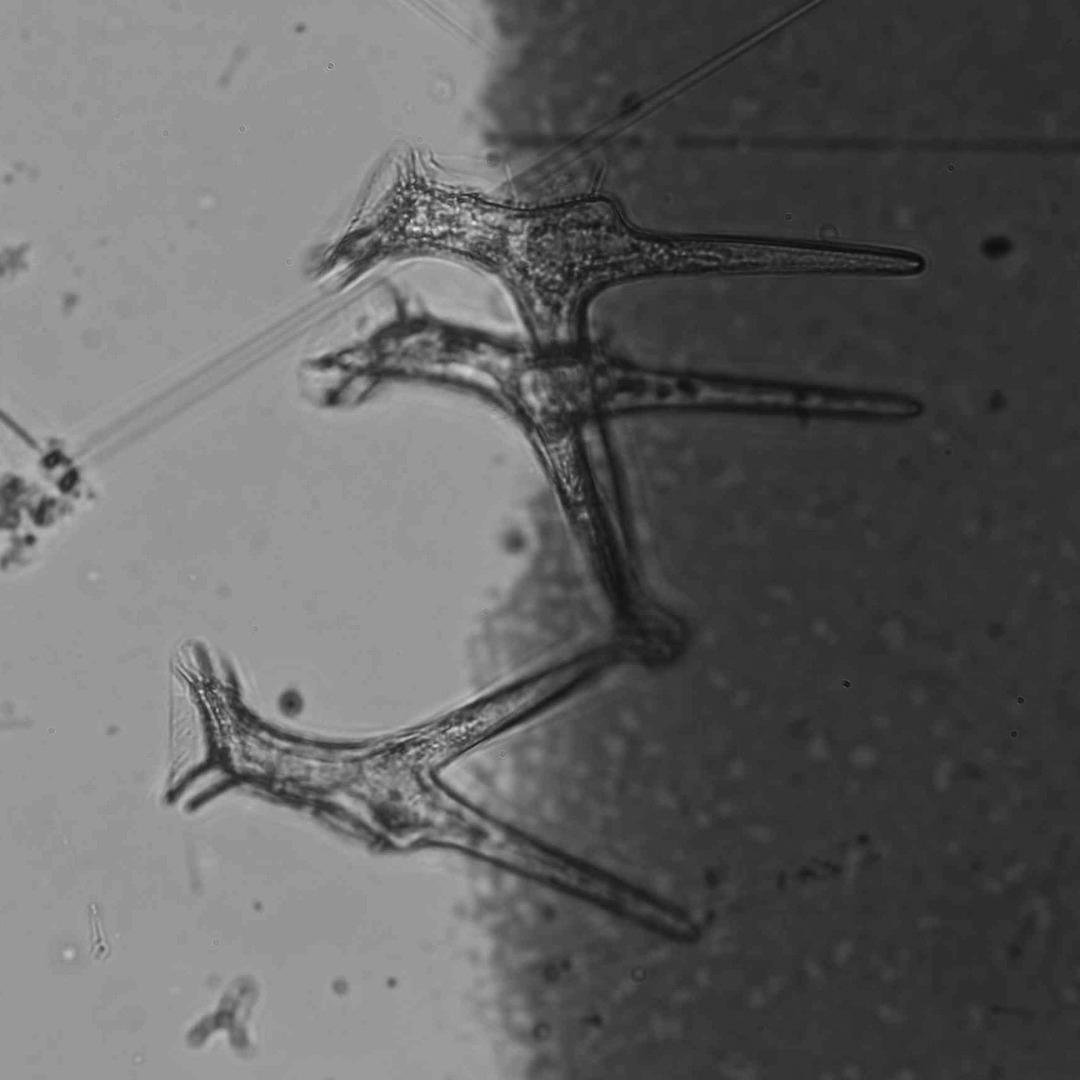dinophysis_miles: (306, 314, 920, 624), (159, 635, 697, 937)
